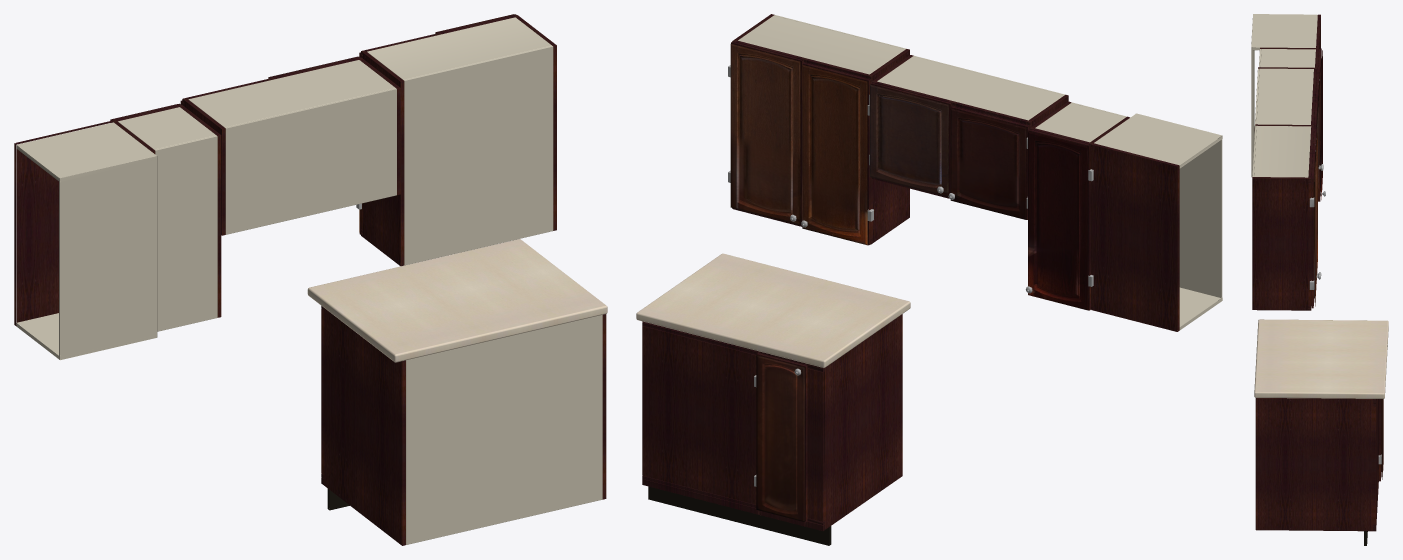
3 views of the same model, side by side, from view 1: azimuth 30°, elevation 25°; view 2: azimuth 150°, elevation 25°; view 3: azimuth 270°, elevation 25° (orthographic). The views are drawn at different scales.
Visible parts, largest first — view 1: microwave_base_carcass, upper_snack_carcass, upper_microwave_carcass, upper_hood_carcass, microwave_landing_countertop; view 2: microwave_base_carcass, upper_snack_carcass, microwave_landing_countertop, upper_microwave_left, upper_microwave_right, upper_snack_door, microwave_base_door, upper_hood_left, upper_microwave_carcass, upper_hood_right, upper_hood_carcass; view 3: microwave_base_carcass, upper_microwave_carcass, microwave_landing_countertop, upper_snack_carcass, upper_hood_carcass, upper_microwave_left, upper_snack_door, microwave_base_door, upper_microwave_right, upper_hood_left, upper_hood_right.
Part boxes in pixels (x1,y1,x2,y2): microwave_base_carcass: [321, 306, 606, 545]; upper_snack_carcass: [14, 104, 221, 360]; upper_microwave_carcass: [361, 15, 556, 266]; upper_hood_carcass: [182, 57, 400, 235]; microwave_landing_countertop: [307, 239, 607, 362]; microwave_base_carcass: [642, 314, 902, 545]; upper_snack_carcass: [1029, 101, 1222, 331]; microwave_landing_countertop: [636, 253, 910, 367]; upper_microwave_left: [728, 41, 803, 225]; upper_microwave_right: [801, 62, 873, 245]; upper_snack_door: [1025, 129, 1093, 310]; microwave_base_door: [754, 353, 807, 522]; upper_hood_left: [869, 82, 951, 196]; upper_microwave_carcass: [732, 14, 909, 244]; upper_hood_right: [948, 106, 1029, 219]; upper_hood_carcass: [871, 55, 1068, 198]; microwave_base_carcass: [1255, 398, 1378, 545]; upper_microwave_carcass: [1252, 124, 1314, 310]; microwave_landing_countertop: [1254, 319, 1388, 398]; upper_snack_carcass: [1251, 14, 1320, 177]; upper_hood_carcass: [1254, 67, 1316, 131]; upper_microwave_left: [1309, 151, 1320, 308]; upper_snack_door: [1318, 48, 1325, 201]; microwave_base_door: [1378, 345, 1387, 481]; upper_microwave_right: [1313, 127, 1321, 279]; upper_hood_left: [1314, 98, 1323, 190]; upper_hood_right: [1315, 70, 1323, 167].
Bounding box in the file's own units: 2.6 × 2.19 × 0.7848.
Materials: 11 (8 with a texture image).
